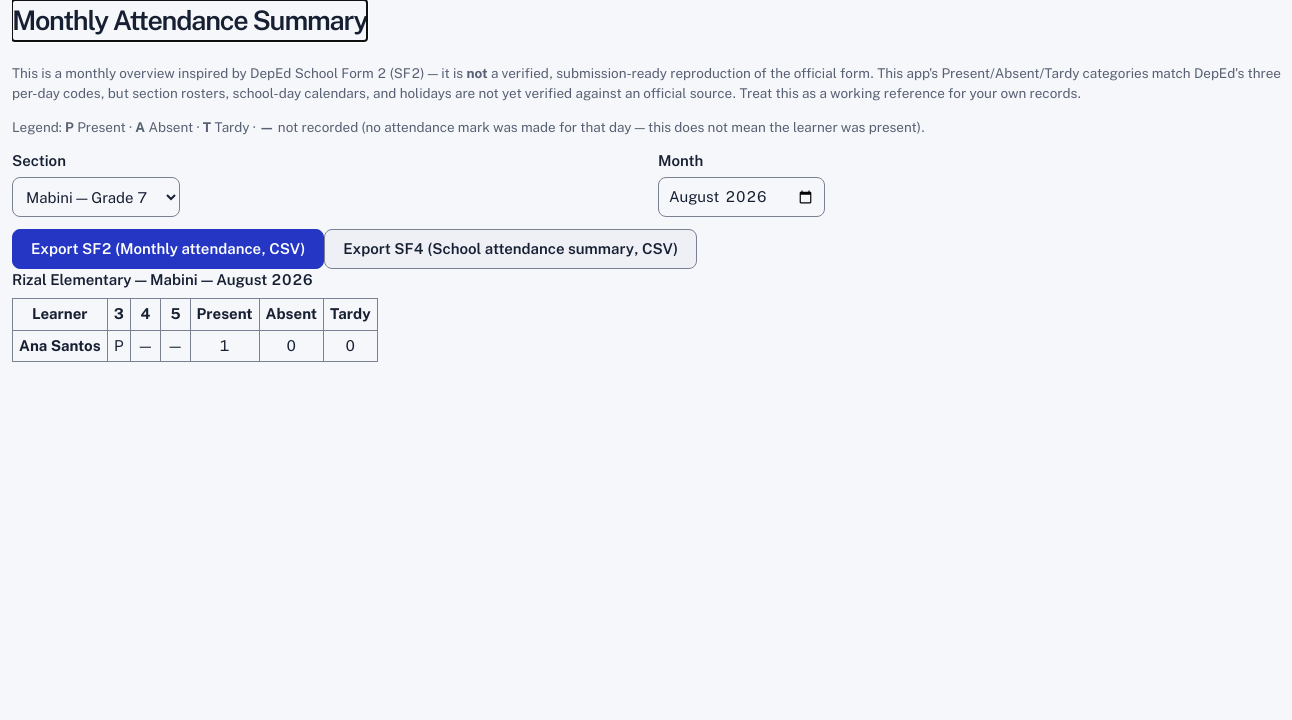
Scenario: MonthlySummaryScreen › exports and shows the saved path plus the omitted-field disclosure
Expected: the column heading "Ana Santos" is shown, [12,330,107,362]
Click the button "Export SF2 (Monthly attendance, CSV)" at coordinates (168, 249), box [12,229,324,269]
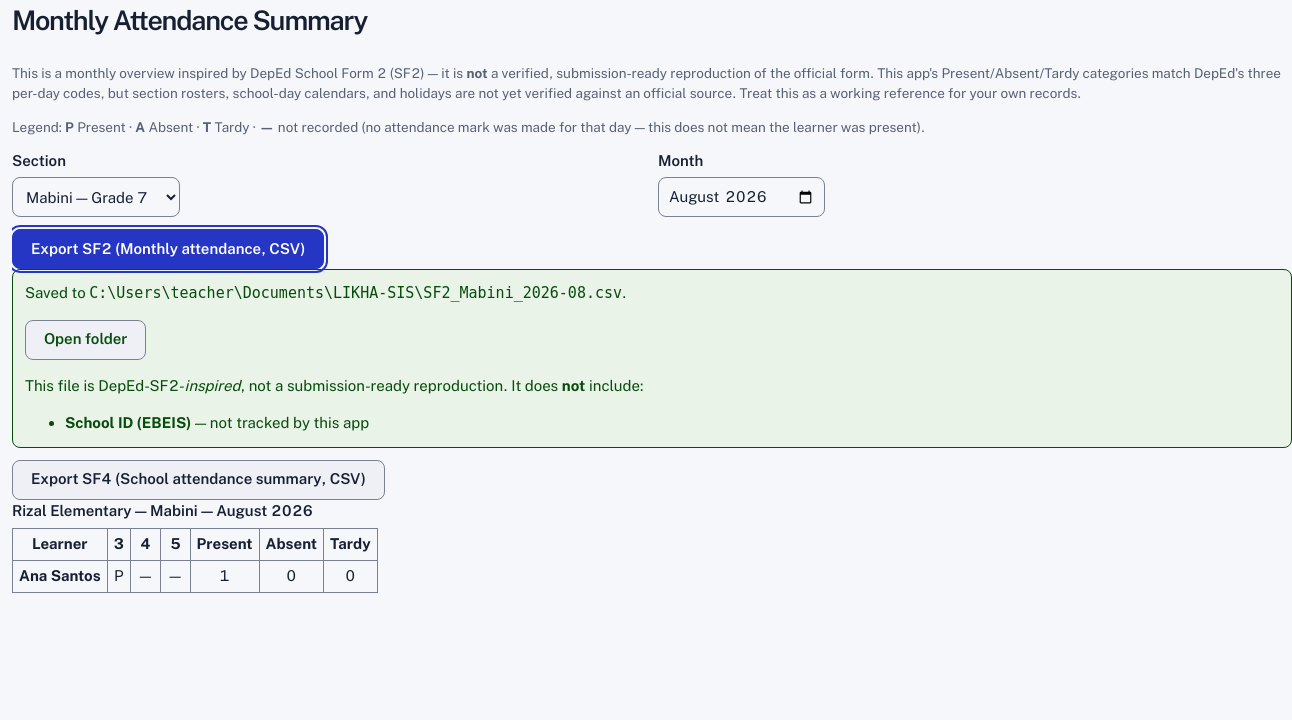
Expected: the text "C:\\Users\\teacher\\Documents\\LIKHA-SIS\\SF2_Mabini_2026-08.csv" is shown, [89,284,622,302]
Expected: the text "School ID (EBEIS)" is shown, [65,414,191,431]
Expected: the list item "School ID (EBEIS) — not tracked by this app" is shown, [65,414,369,431]
